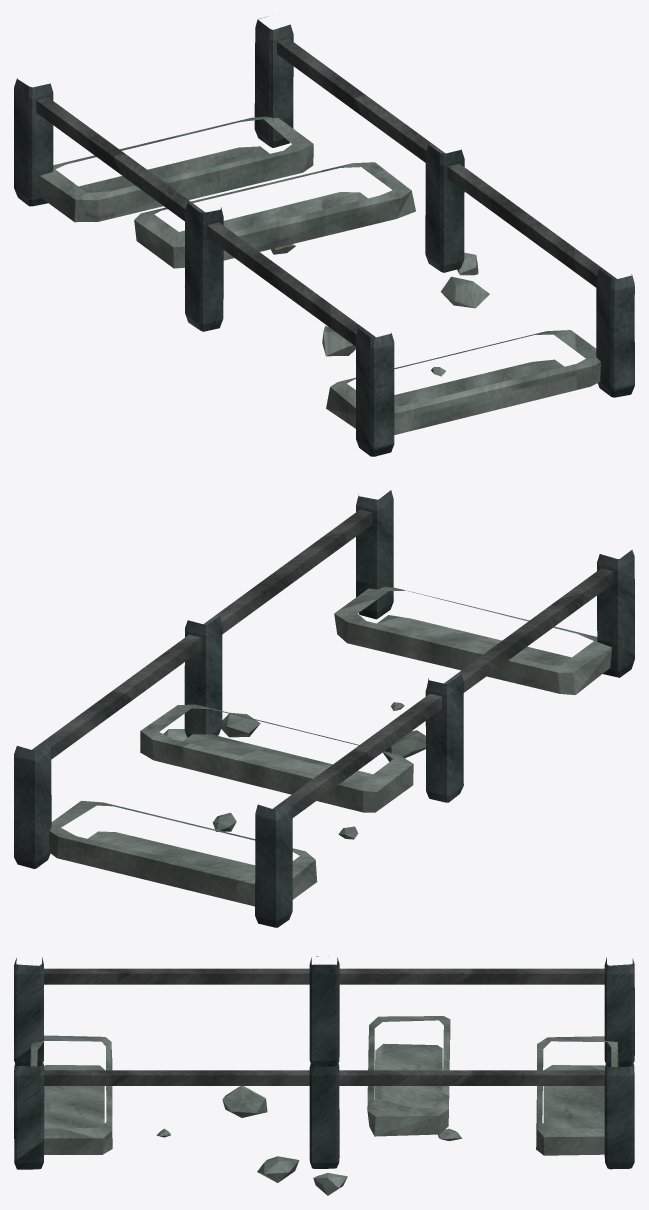
File: 0384_ruined_bridge_09.glb
3 renders of one model, top to bottom at view 1: azimuth 30°, elevation 25°; view 2: azimuth 150°, elevation 25°; view 3: azimuth 270°, elevation 25°, orthographic. The views are drawn at different scales.
Parts seen in each view (by area): view 1: stone, stone_dark, iron; view 2: stone, stone_dark, iron; view 3: stone, stone_dark, iron.
Boxes of the visible parts, <box> form: stone: <box>40,116,600,434</box>; stone_dark: <box>14,16,634,456</box>; iron: <box>36,39,616,346</box>; stone: <box>49,586,611,906</box>; stone_dark: <box>14,490,634,927</box>; iron: <box>32,509,613,817</box>; stone: <box>30,1016,618,1195</box>; stone_dark: <box>14,956,634,1169</box>; iron: <box>44,968,604,1085</box>.
Bounding box in the file's own units: 2.44 × 1.1 × 5.2.
Materials: 3 (3 with a texture image).
